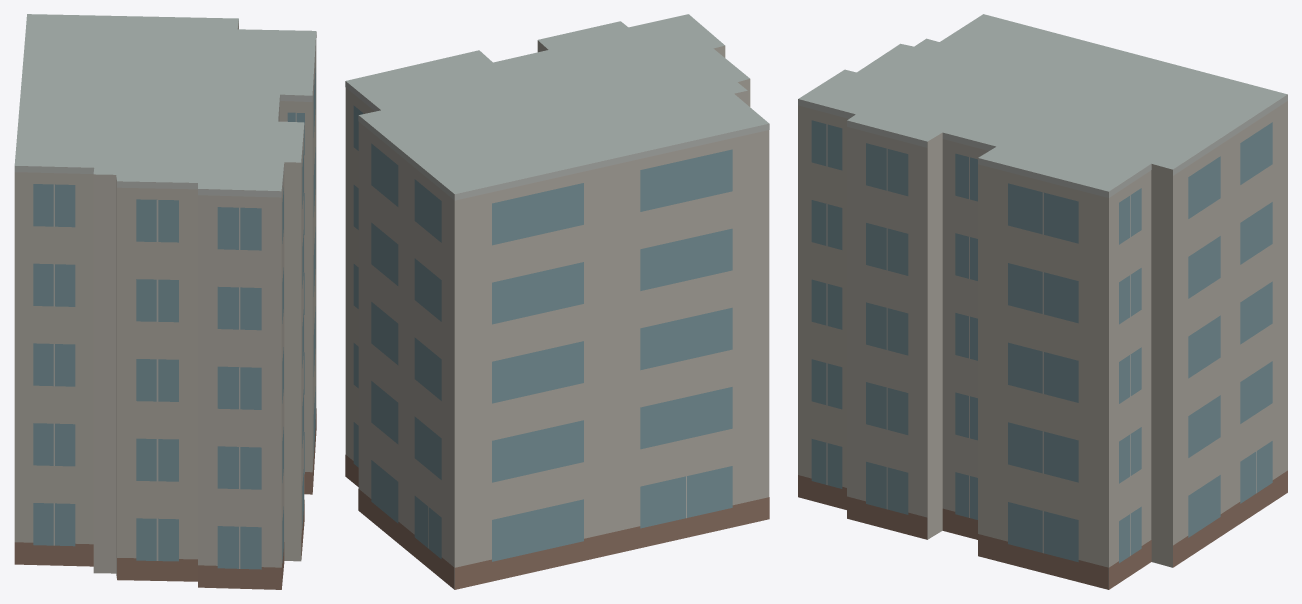
The model's file is survey-upis-32748084.glb.
The picture shows the model from 3 angles, left to right: view 1: azimuth 30°, elevation 25°; view 2: azimuth 150°, elevation 25°; view 3: azimuth 270°, elevation 25°; orthographic projection.
Parts seen in each view (by area): view 1: survey-upis-32748084.tmp; view 2: survey-upis-32748084.tmp; view 3: survey-upis-32748084.tmp.
Part boxes in pixels (x1,y1,x2,y2): survey-upis-32748084.tmp: [14, 14, 316, 589]; survey-upis-32748084.tmp: [345, 14, 769, 589]; survey-upis-32748084.tmp: [798, 14, 1287, 589].
Size of the model in its own units: 14.6 by 15.25 by 17.01.
